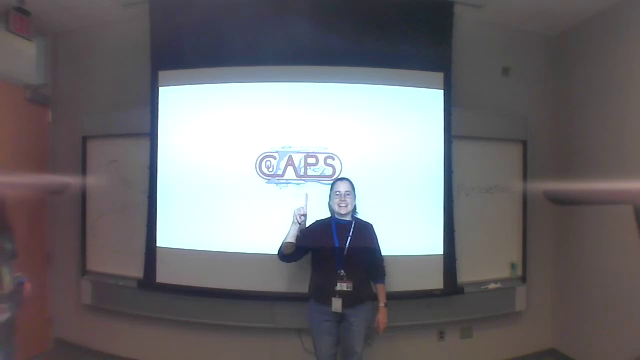up: (290, 191, 313, 226)
